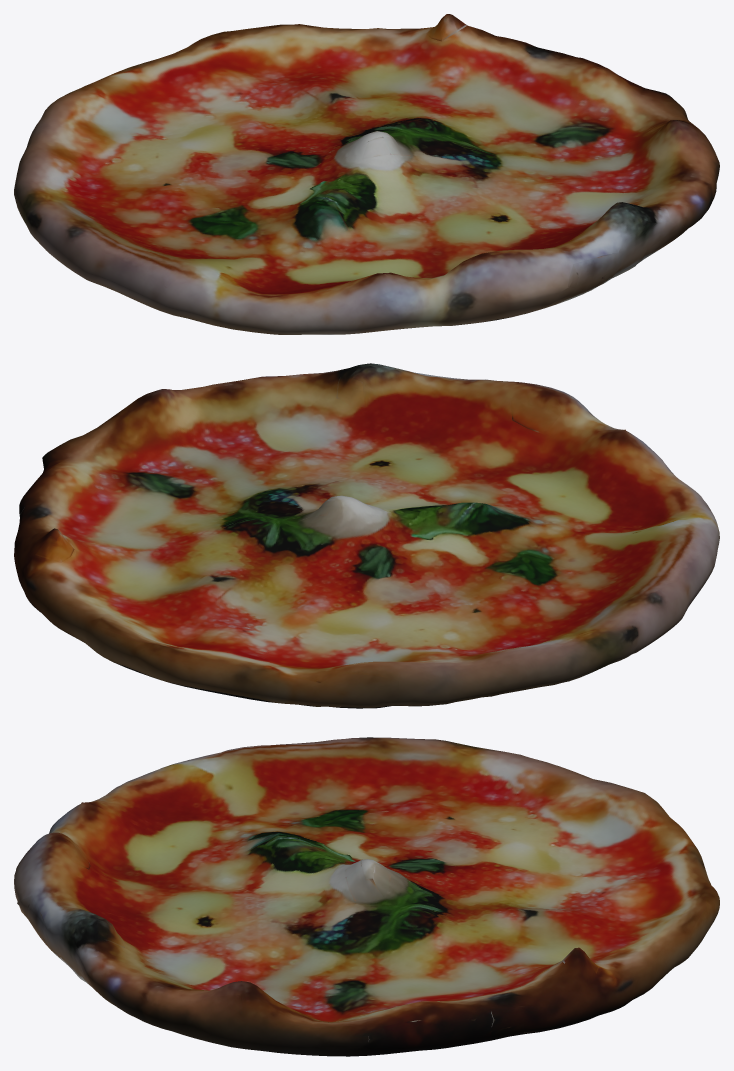
Rendered from pizza.gltf.
3 views of the same model, one above another, from view 1: azimuth 30°, elevation 25°; view 2: azimuth 150°, elevation 25°; view 3: azimuth 270°, elevation 25° (orthographic). The views are drawn at different scales.
Visible parts, largest first — view 1: pizza.001; view 2: pizza.001; view 3: pizza.001.
Boxes of the visible parts, x1,y1,x2,y2 form: pizza.001: (14,14,719,334); pizza.001: (14,363,719,708); pizza.001: (14,737,719,1056).
Size of the model in its own units: 23.86 by 2.45 by 23.7.
1 material, 1 textured.
